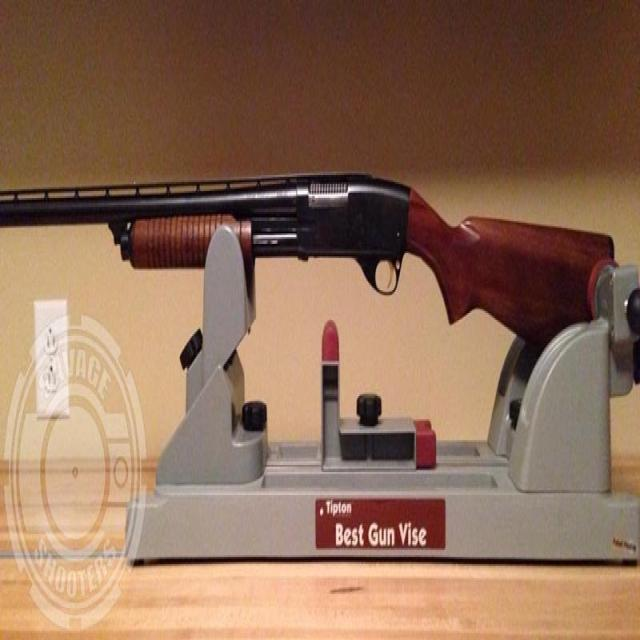ShotGun: (0, 173, 615, 350)
